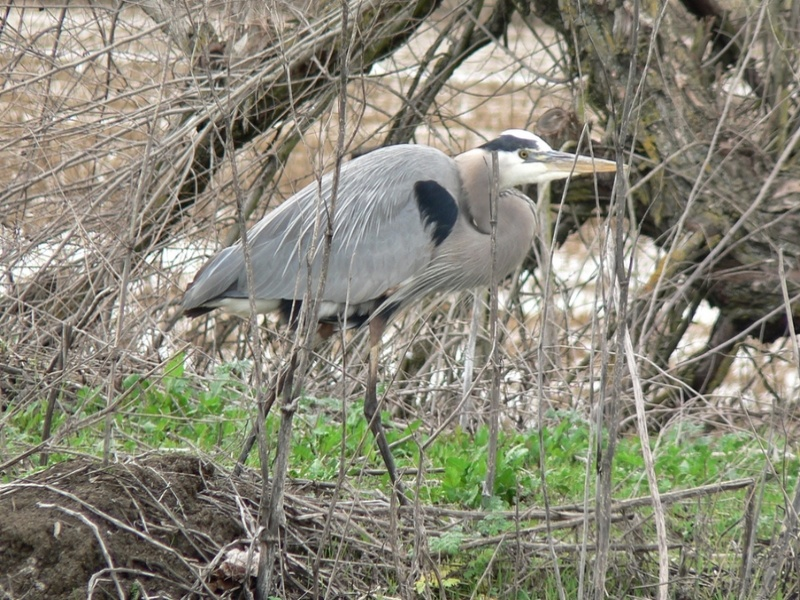heron: (176, 127, 653, 487)
